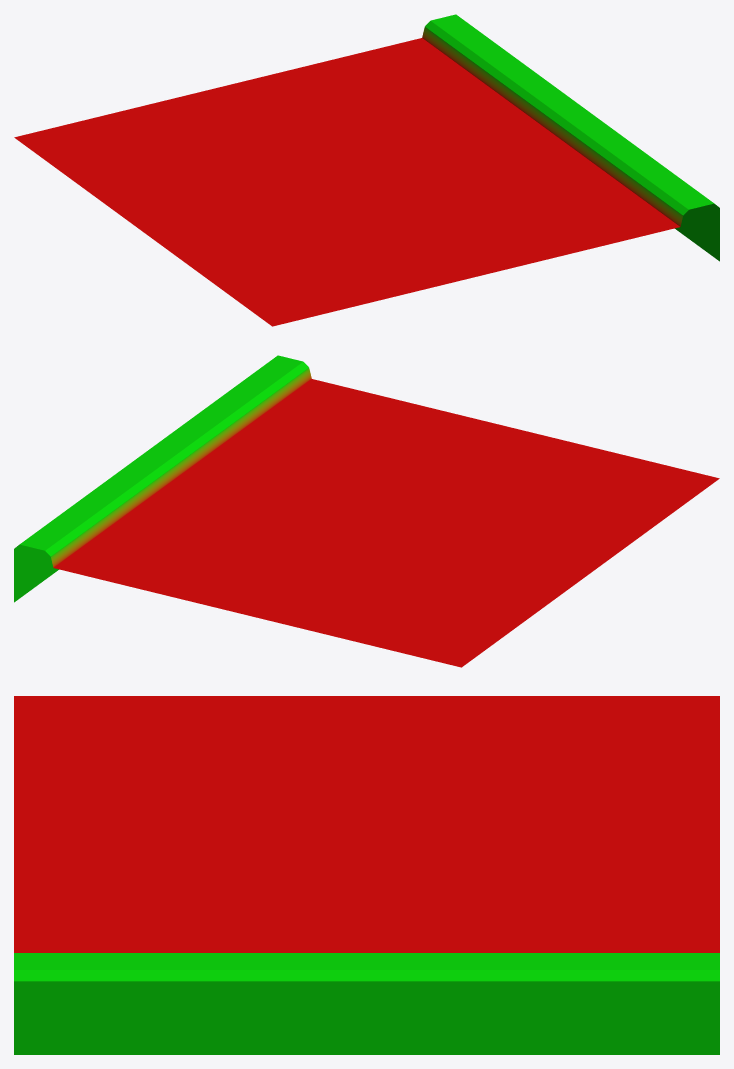
Rendered from WideRoadB_Edge.fbx.
The picture shows the model from 3 angles, top to bottom: view 1: azimuth 30°, elevation 25°; view 2: azimuth 150°, elevation 25°; view 3: azimuth 270°, elevation 25°; orthographic projection. The views are drawn at different scales.
Parts seen in each view (by area): view 1: WideRoadB_Edge; view 2: WideRoadB_Edge; view 3: WideRoadB_Edge.
Part boxes in pixels (x1,y1,x2,y2): WideRoadB_Edge: (14, 14, 719, 326); WideRoadB_Edge: (14, 355, 719, 667); WideRoadB_Edge: (14, 696, 719, 1054).
Size of the model in its own units: 2 by 2 by 0.2542.
